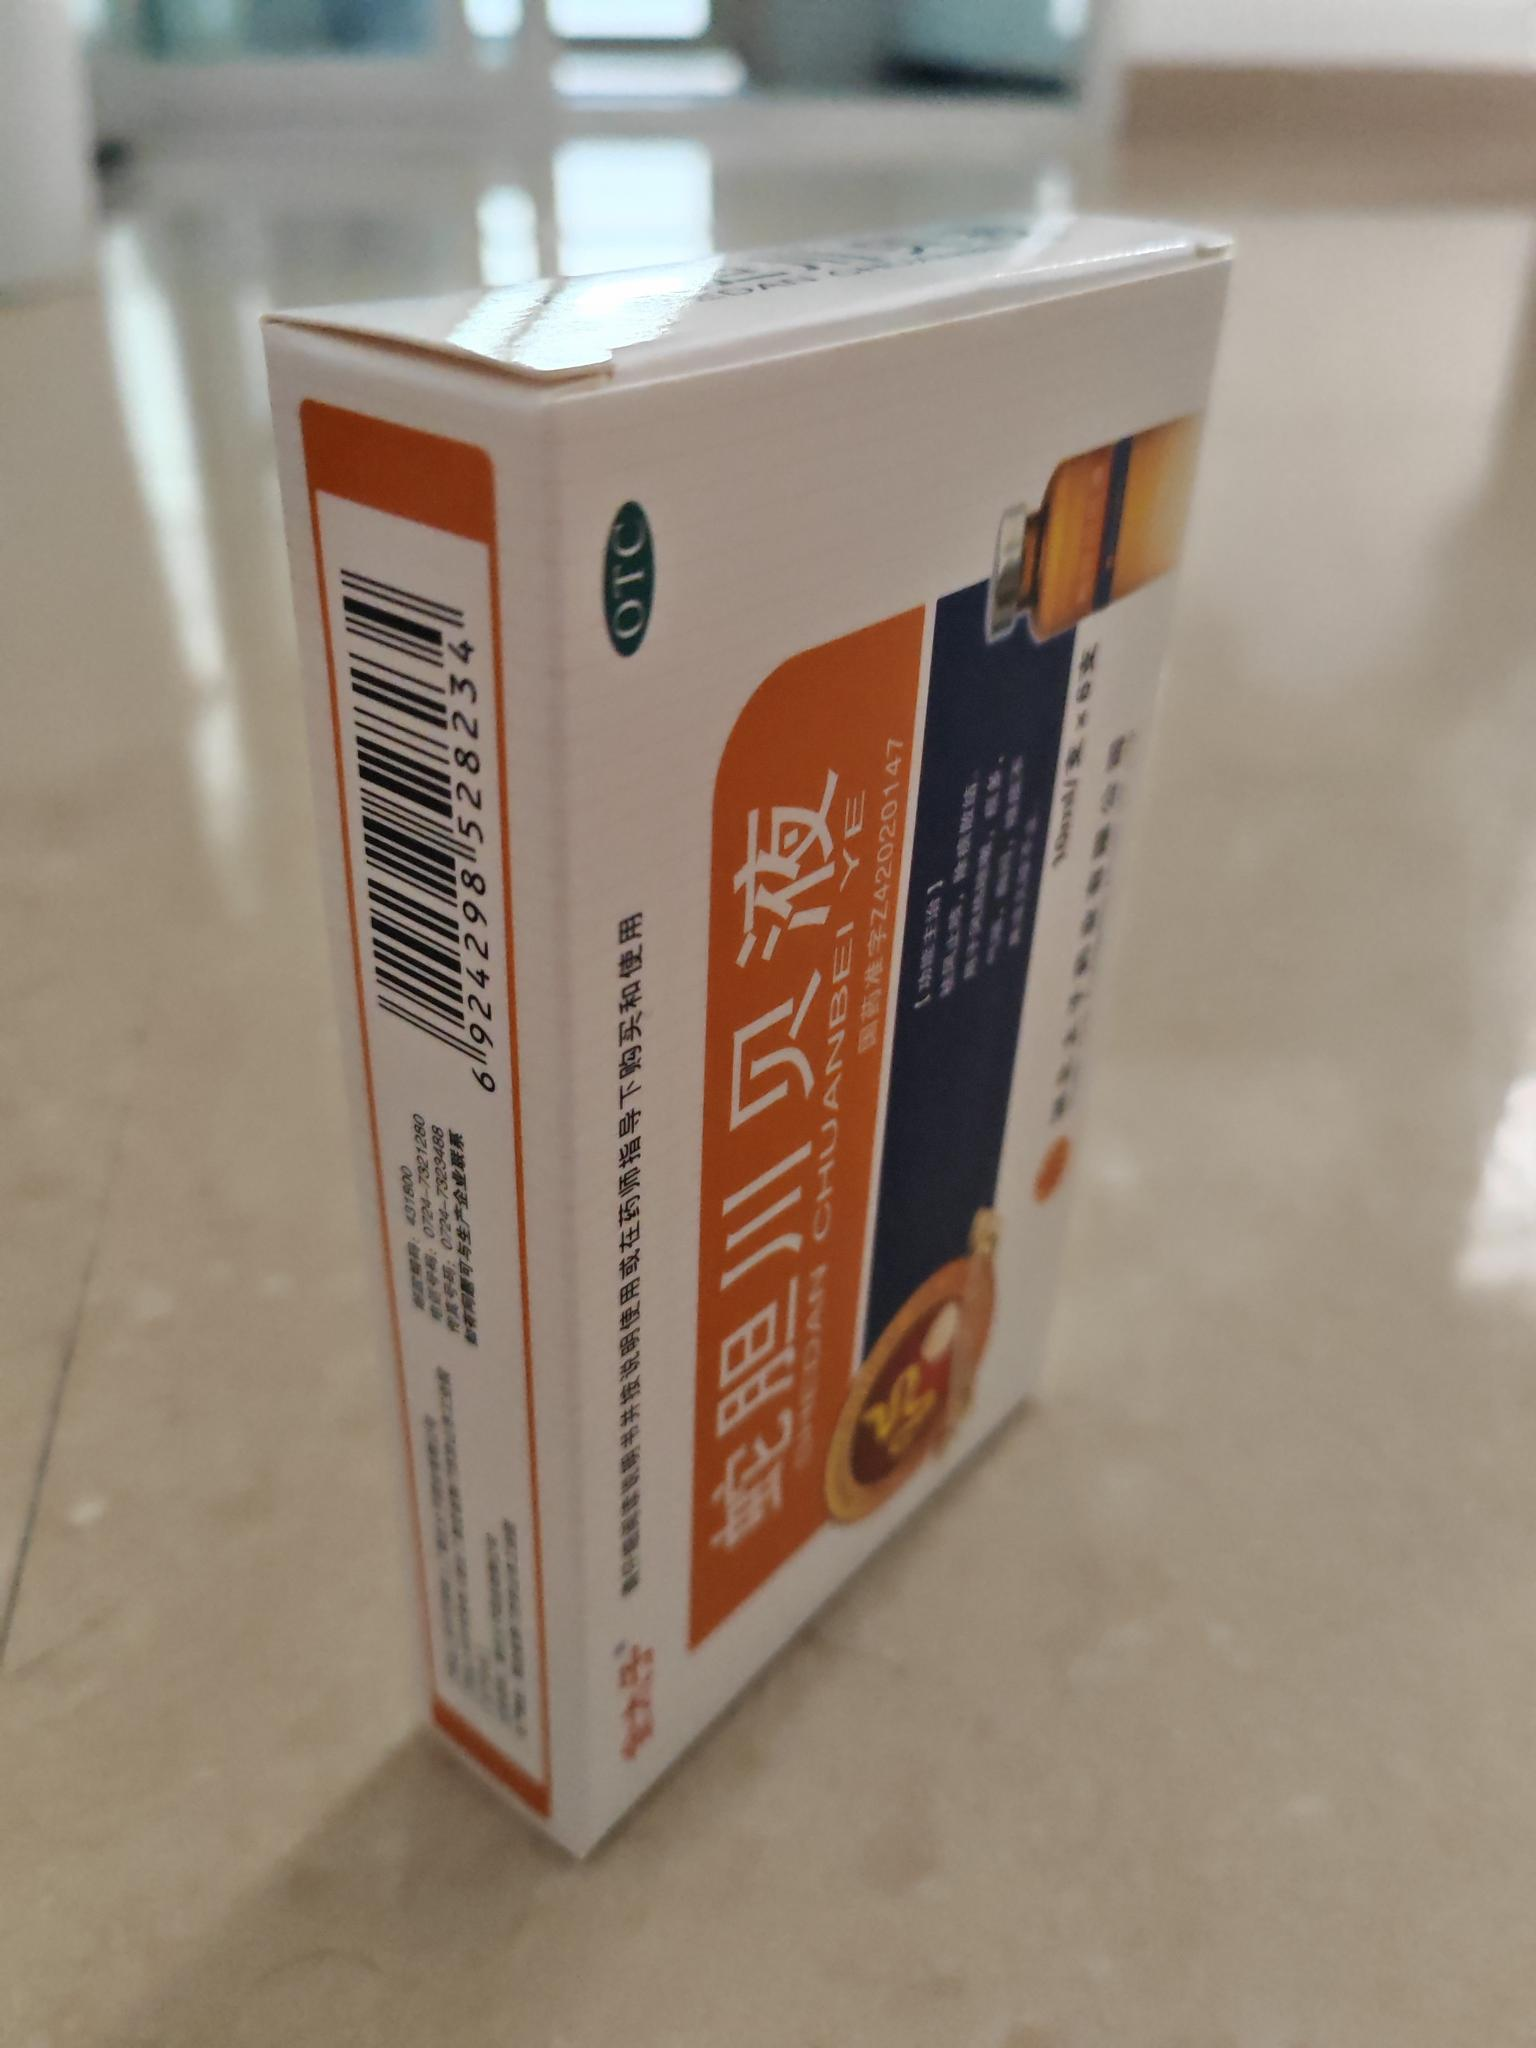Medicine5: (231, 195, 1271, 1880)
